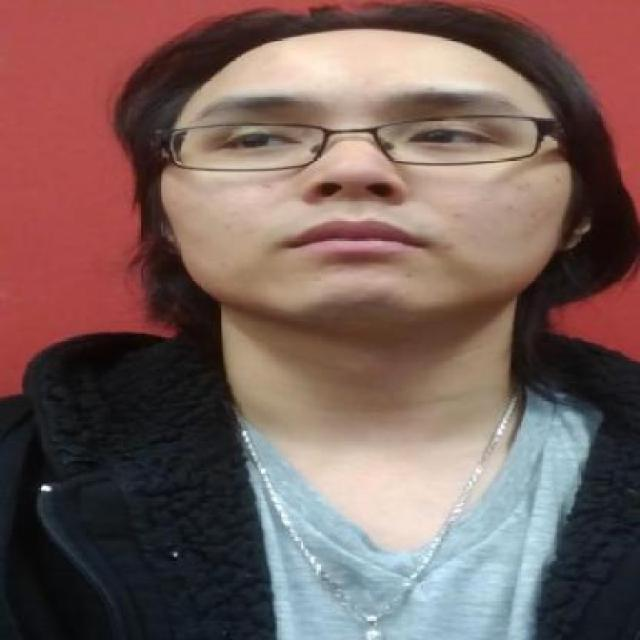awake: (402, 119, 502, 153), (219, 126, 299, 157)
